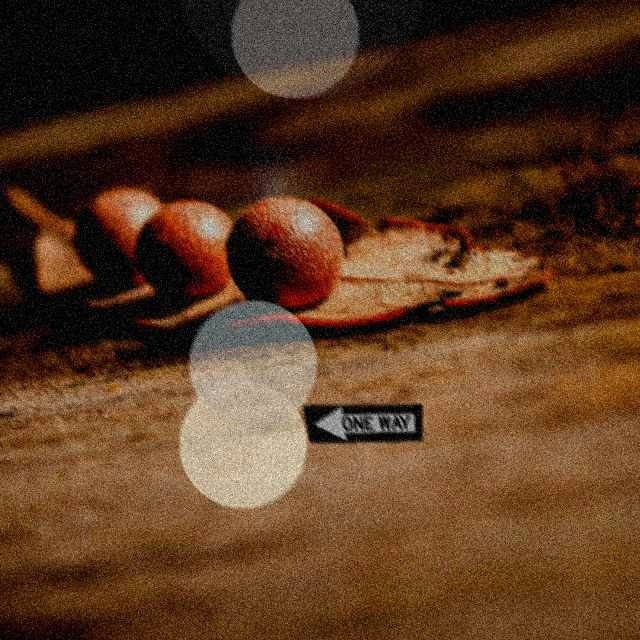ONE_WAY_ left: (303, 405, 423, 443)
